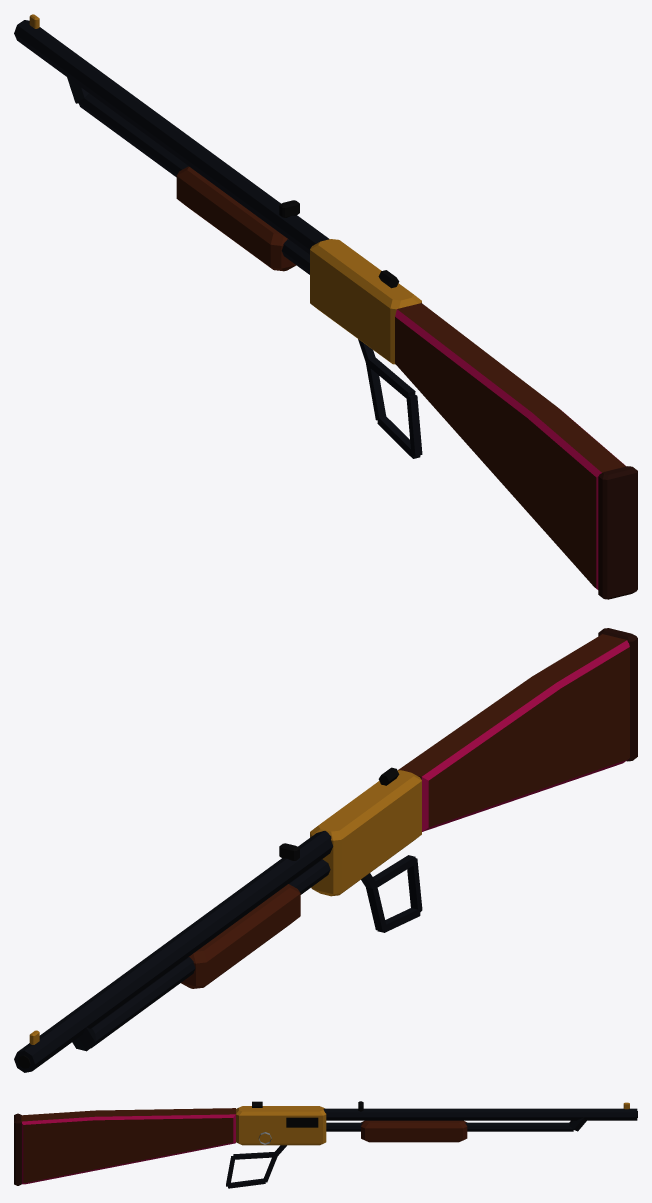
File: SM_Wep_LeverRifle.glb
3 views of the same model, one above another, from view 1: azimuth 30°, elevation 25°; view 2: azimuth 150°, elevation 25°; view 3: azimuth 270°, elevation 25° (orthographic). The views are drawn at different scales.
Parts seen in each view (by area): view 1: SM_Wep_LeverRifle, SM_Wep_LeverRifle_Lever; view 2: SM_Wep_LeverRifle, SM_Wep_LeverRifle_Lever; view 3: SM_Wep_LeverRifle, SM_Wep_LeverRifle_Lever.
Boxes of the visible parts, left/top/right/bottom form: SM_Wep_LeverRifle: left=14, top=14, right=637, bottom=599; SM_Wep_LeverRifle_Lever: left=358, top=339, right=422, bottom=458; SM_Wep_LeverRifle: left=14, top=628, right=637, bottom=1072; SM_Wep_LeverRifle_Lever: left=361, top=855, right=422, bottom=932; SM_Wep_LeverRifle: left=14, top=1101, right=637, bottom=1185; SM_Wep_LeverRifle_Lever: left=226, top=1145, right=286, bottom=1188.
Bounding box in the file's own units: 0.048 × 0.1772 × 1.17.
Materials: 1 (1 with a texture image).
